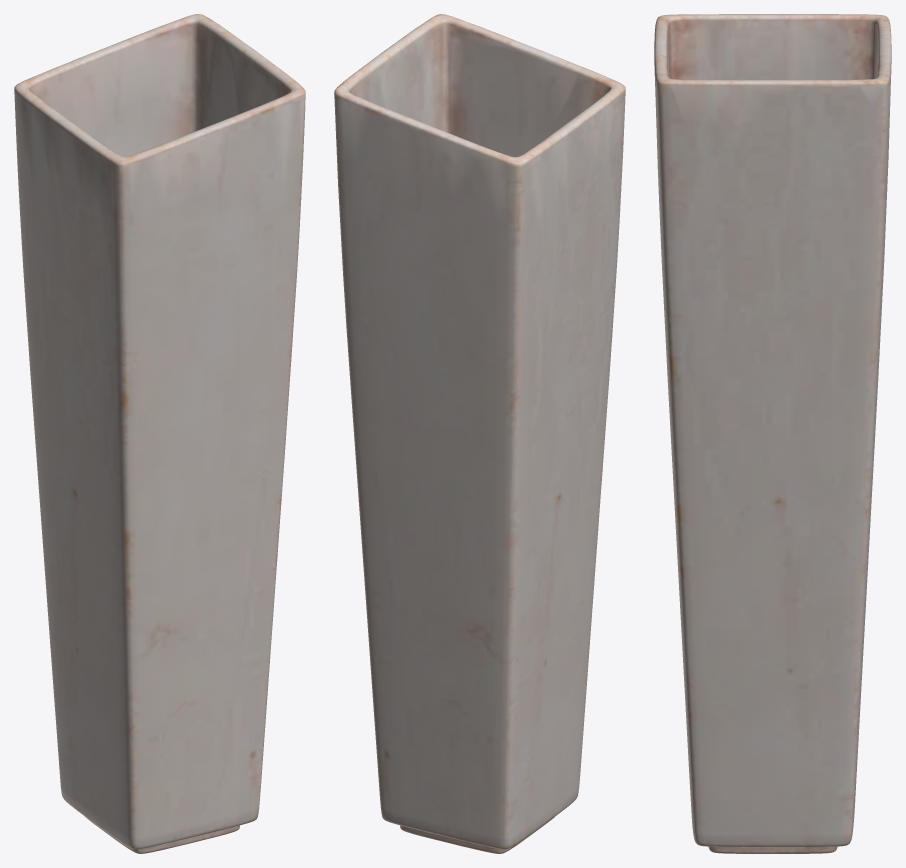
Rendered from prop-vase-6effa76f.glb.
3 views of the same model, side by side, from view 1: azimuth 30°, elevation 25°; view 2: azimuth 150°, elevation 25°; view 3: azimuth 270°, elevation 25° (orthographic). The views are drawn at different scales.
Visible parts, largest first — view 1: ceramic_vase_03; view 2: ceramic_vase_03; view 3: ceramic_vase_03.
Boxes of the visible parts, left/top/right/bottom form: ceramic_vase_03: left=14, top=14, right=305, bottom=853; ceramic_vase_03: left=334, top=14, right=625, bottom=853; ceramic_vase_03: left=654, top=14, right=891, bottom=853.
Bounding box in the file's own units: 0.1122 × 0.4143 × 0.1122.
1 material, 1 textured.
